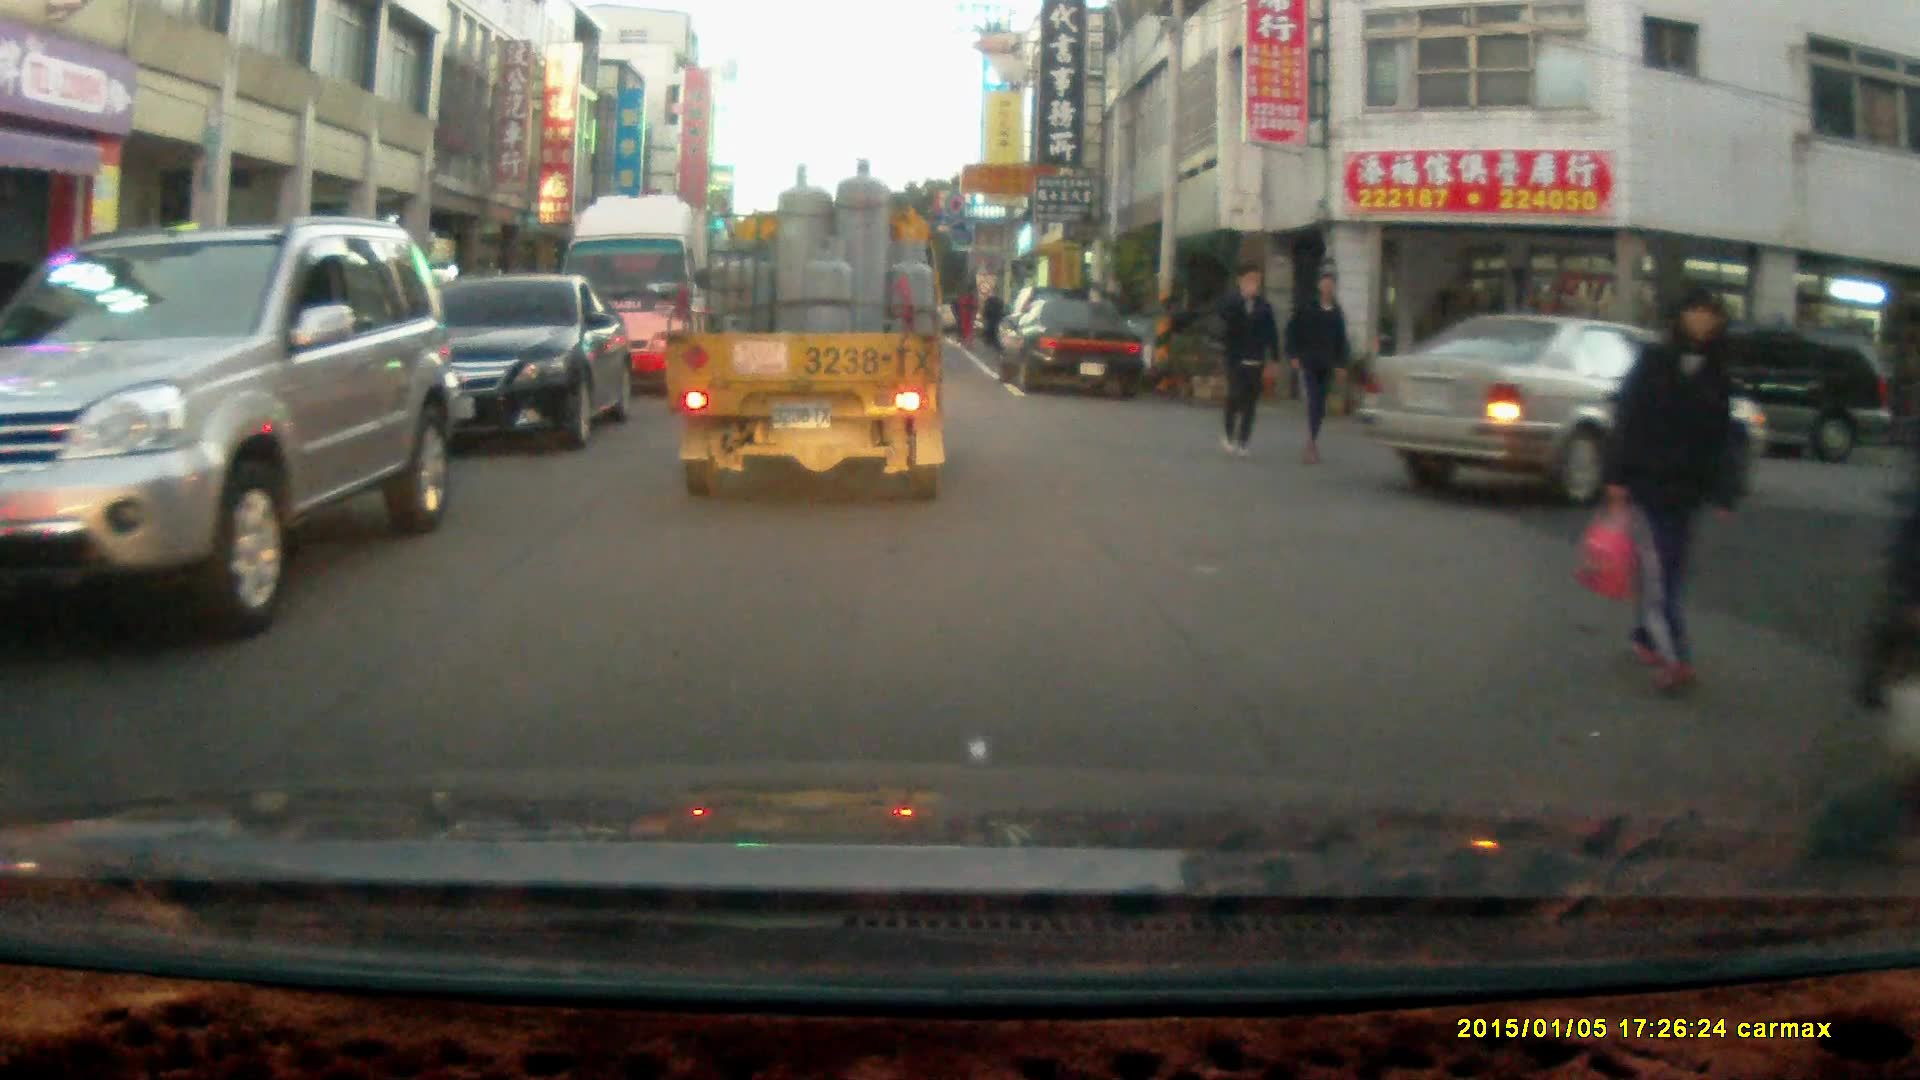pedestrian: (1608, 285, 1741, 693), (1283, 268, 1351, 465), (1213, 258, 1270, 456), (978, 278, 1005, 347)
vehicle: (1, 213, 453, 640), (665, 158, 948, 509), (1360, 311, 1769, 516), (364, 277, 633, 458), (557, 191, 733, 400), (991, 298, 1146, 400)
